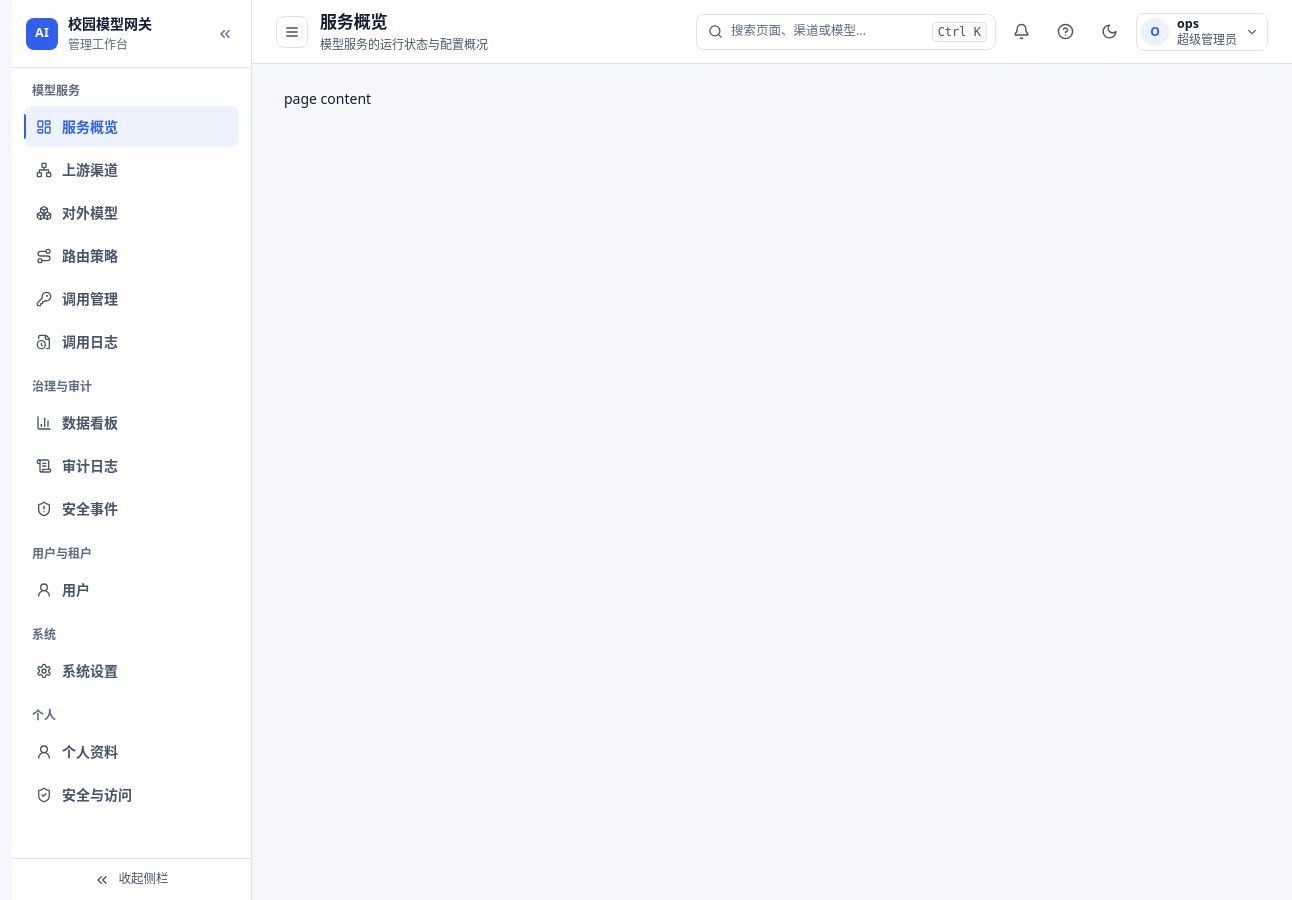
Test case: Shell user menu › closes when the operator clicks elsewhere on the page
Click the button "O ops 超级管理员" at (1202, 32), box [1136,12,1268,50]
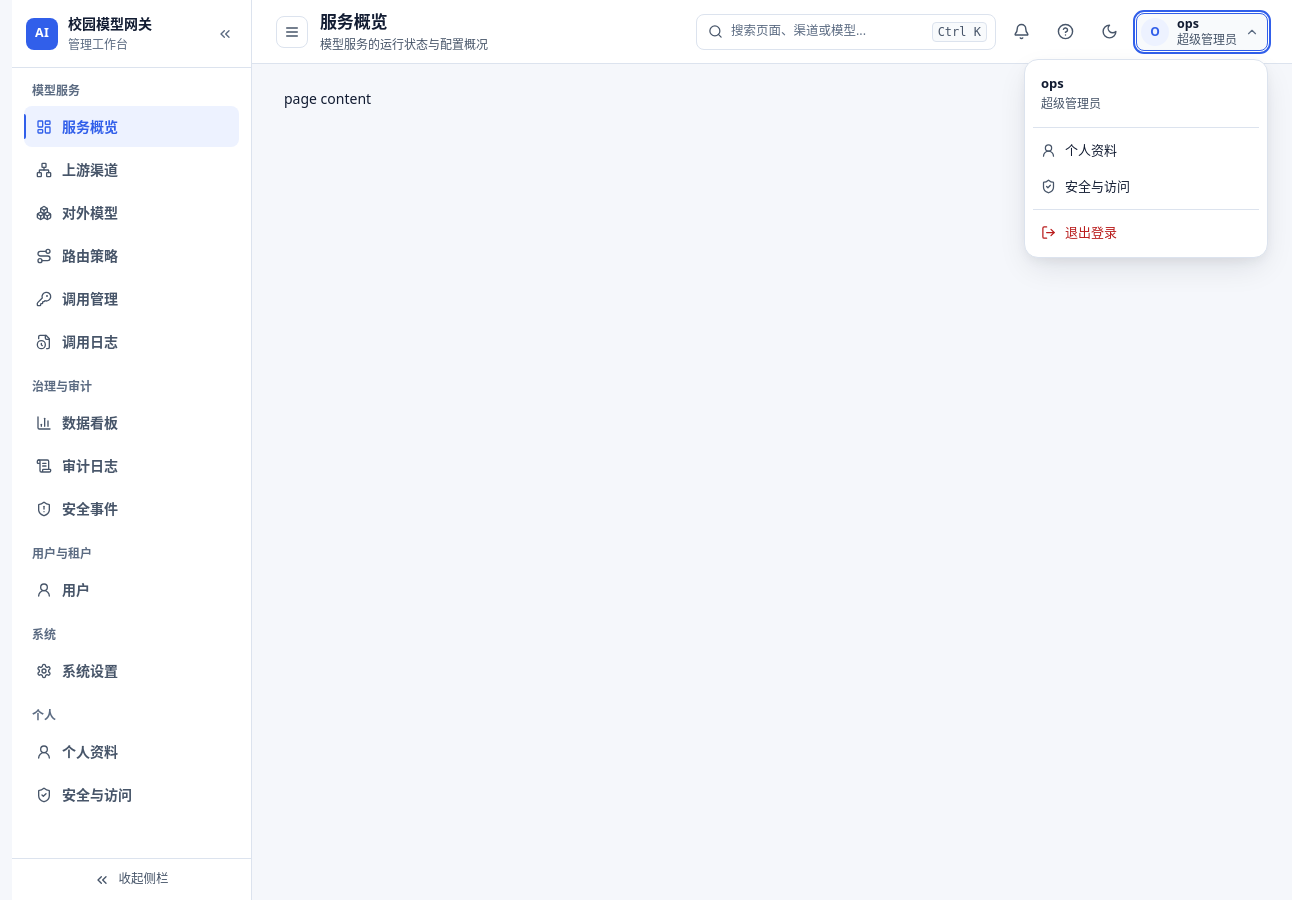
expect the menu is shown: met, box [1024,58,1268,258]
Click the text "page content" at (328, 98), box [284,89,371,108]
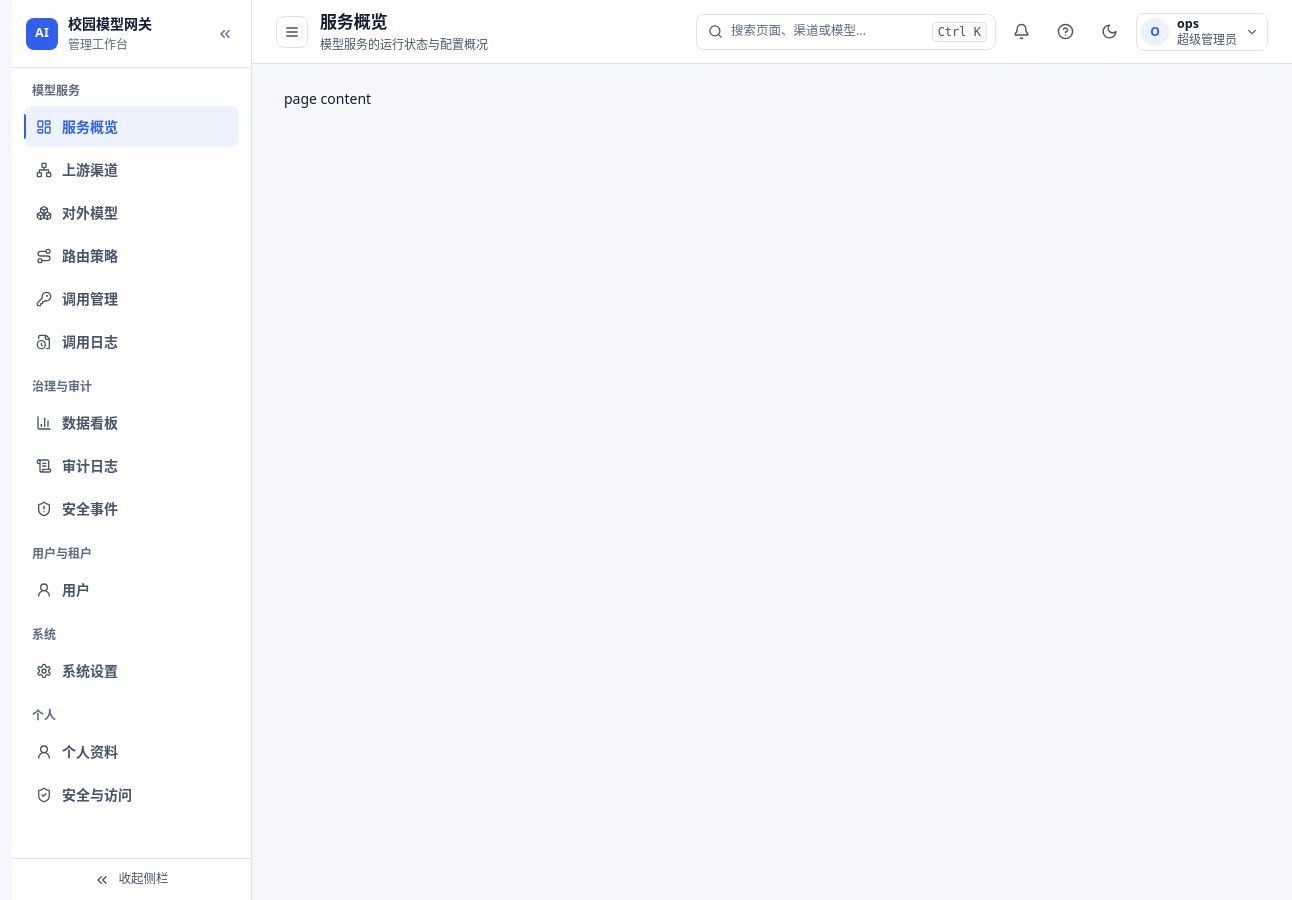
expect the menu is gone: met
